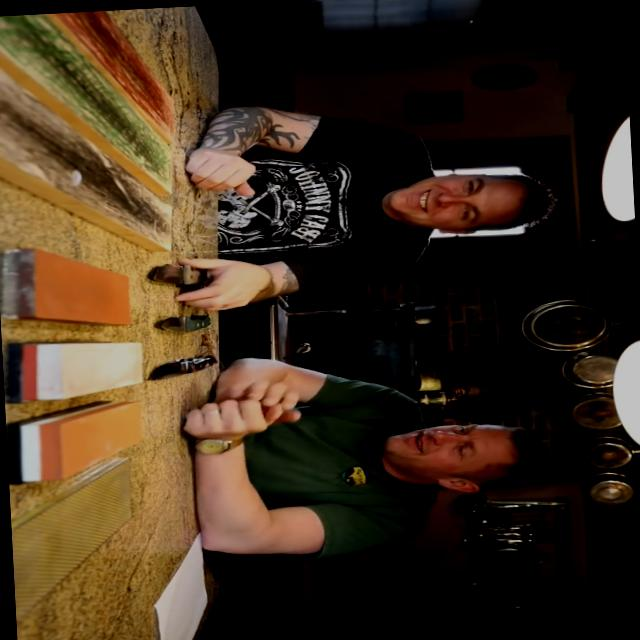knife: (142, 254, 238, 316)
